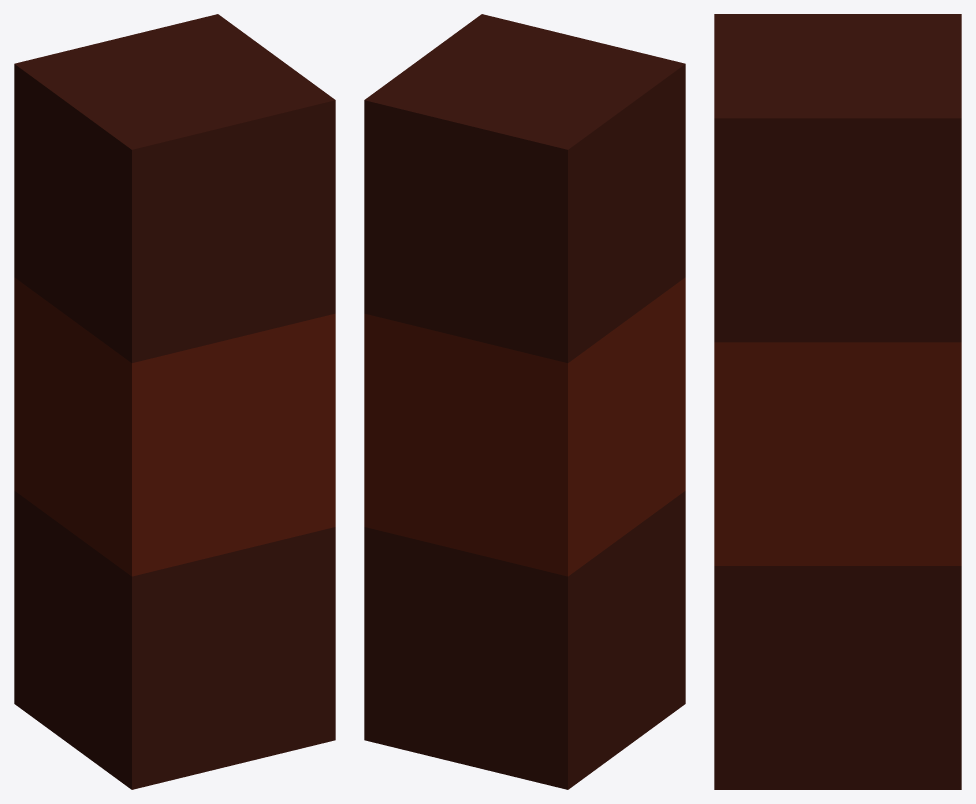
Rendered from tavern_wine_bottle.glb.
The picture shows the model from 3 angles, left to right: view 1: azimuth 30°, elevation 25°; view 2: azimuth 150°, elevation 25°; view 3: azimuth 270°, elevation 25°; orthographic projection. The views are drawn at different scales.
Visible parts, largest first — view 1: tavern_wine_bottle; view 2: tavern_wine_bottle; view 3: tavern_wine_bottle.
Boxes of the visible parts, left/top/right/bottom form: tavern_wine_bottle: left=14, top=14, right=335, bottom=789; tavern_wine_bottle: left=364, top=14, right=685, bottom=789; tavern_wine_bottle: left=714, top=14, right=961, bottom=789.
Bounding box in the file's own units: 0.25 × 0.75 × 0.25.
1 material, 1 textured.
